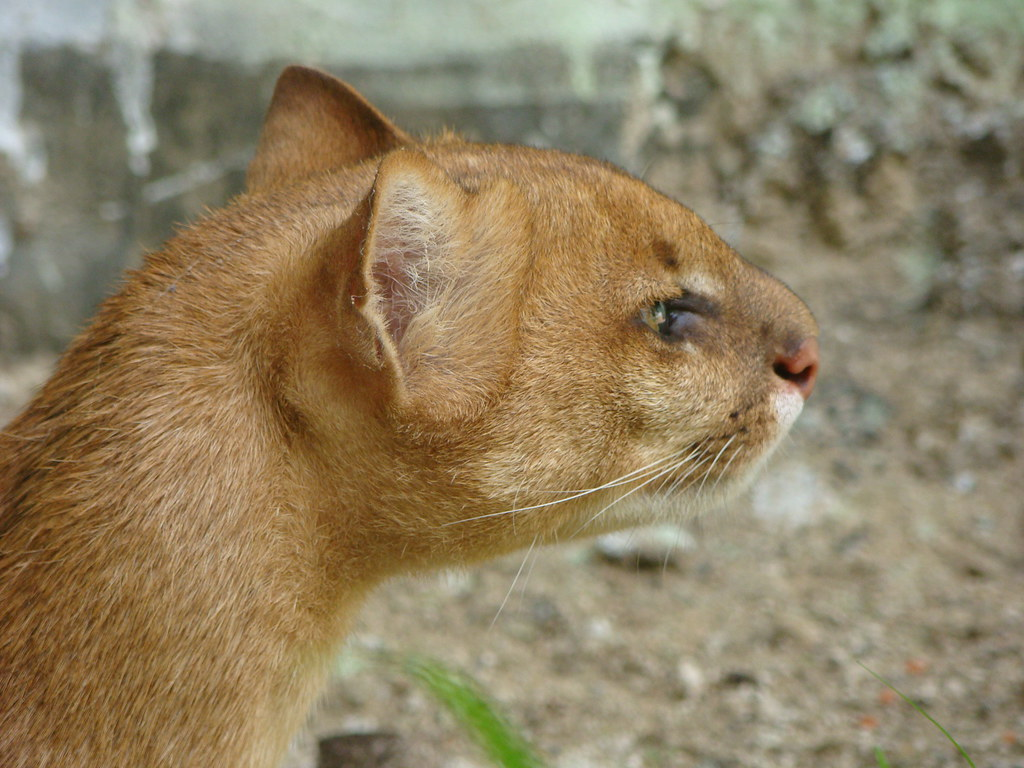Jaguarundi: (72, 46, 826, 714)
